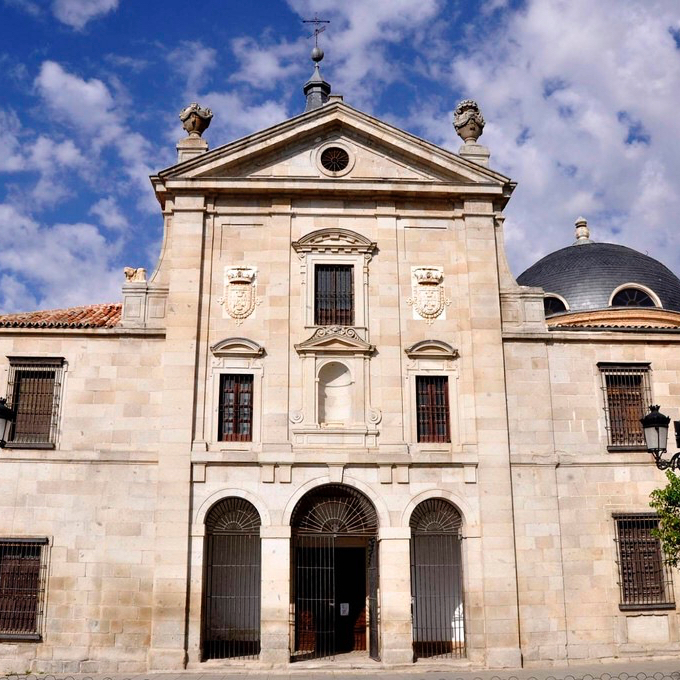arco-medio-punto: (285, 478, 387, 544), (201, 492, 266, 542), (406, 494, 471, 543)
fronton: (156, 96, 515, 188), (291, 333, 376, 358)
fronton-curvo: (292, 227, 378, 253), (407, 337, 458, 359), (210, 336, 265, 356)
ojo-de-buey: (315, 141, 357, 177)
vano-adintelado: (1, 355, 72, 444), (610, 511, 675, 605), (596, 360, 659, 448), (1, 535, 51, 638), (303, 253, 367, 328), (405, 368, 463, 447), (210, 366, 264, 445)
